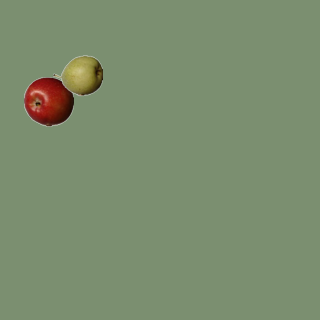Apple Braeburn: (23, 76, 73, 126)
Pear: (52, 50, 102, 100)
